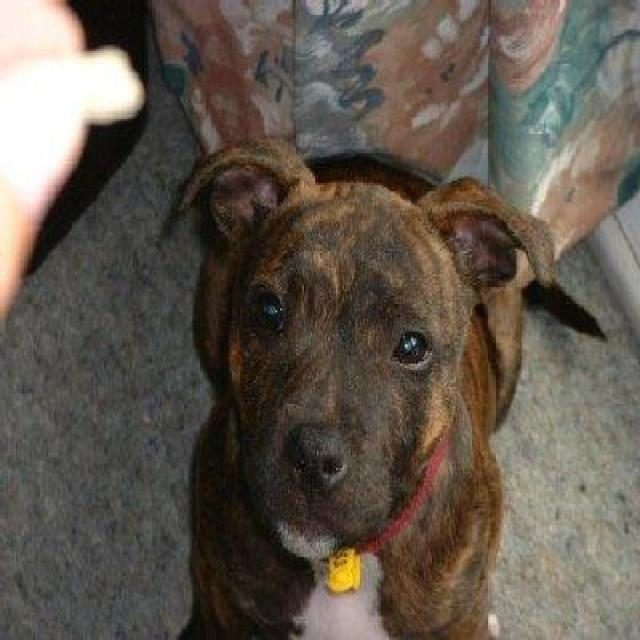staffordshire_bullterrier: (155, 134, 557, 638)
